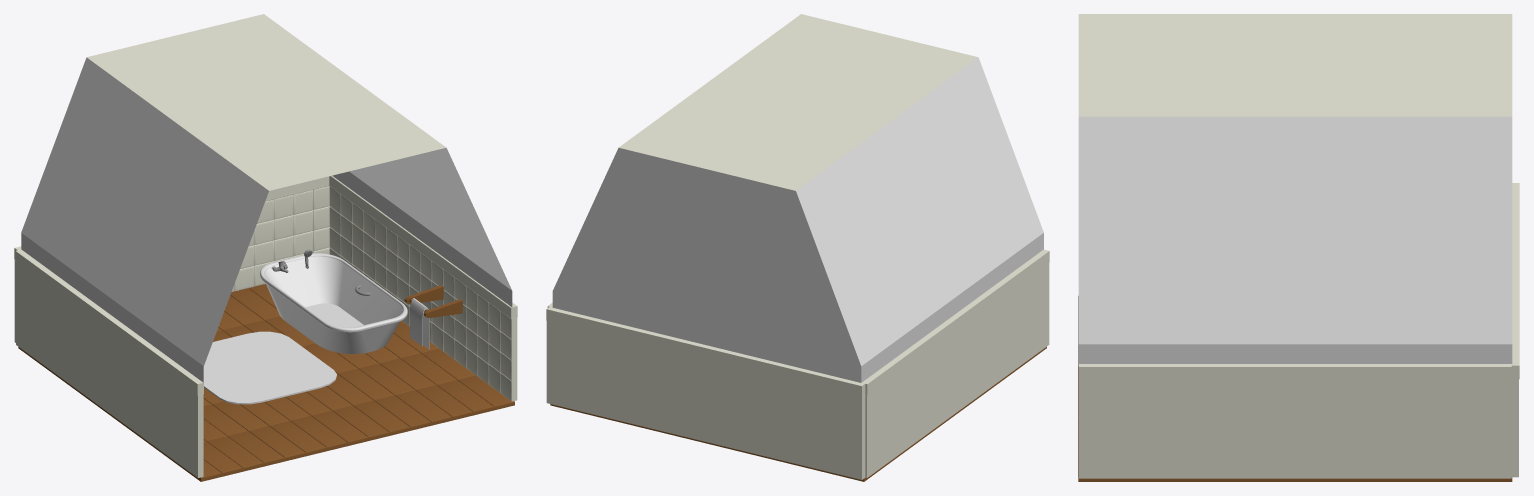
Rendered from BathroomScene.fbx.
3 renders of one model, left to right at view 1: azimuth 30°, elevation 25°; view 2: azimuth 150°, elevation 25°; view 3: azimuth 270°, elevation 25°, orthographic. The views are drawn at different scales.
Parts seen in each view (by area): view 1: Bathroom Room, Bath, Rug1, Towel Place; view 2: Bathroom Room; view 3: Bathroom Room.
Boxes of the visible parts, x1=… form: Bathroom Room: x1=14, y1=14, x2=517, y2=481; Bath: x1=260, y1=253, x2=407, y2=353; Rug1: x1=203, y1=331, x2=336, y2=404; Towel Place: x1=404, y1=285, x2=462, y2=349; Bathroom Room: x1=546, y1=14, x2=1049, y2=481; Bathroom Room: x1=1078, y1=14, x2=1519, y2=481.
Size of the model in its own units: 38.65 by 31.67 by 38.9.
